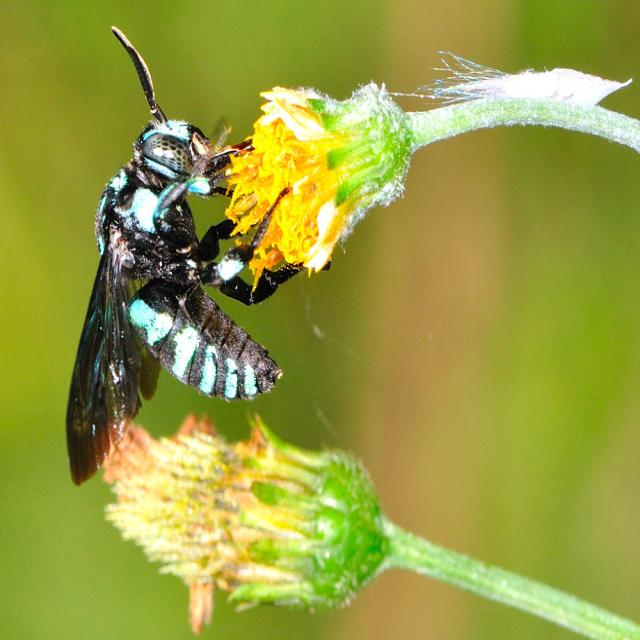Thyreus: (62, 15, 320, 499)
